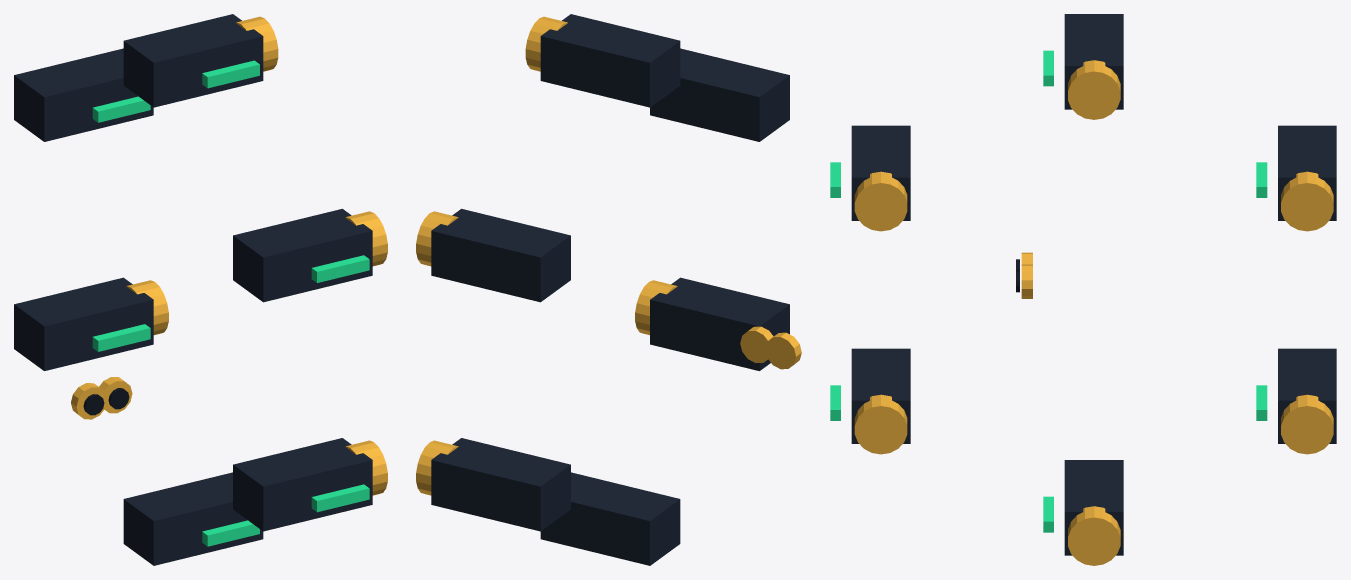
File: 57_L85_SixActuatorDockingLatchArray.fbx
3 views of the same model, side by side, from view 1: azimuth 30°, elevation 25°; view 2: azimuth 150°, elevation 25°; view 3: azimuth 270°, elevation 25° (orthographic). The views are drawn at different scales.
Visible parts, largest first — view 1: L85_SixActuatorDockingLatchArray_Part_0000, L85_SixActuatorDockingLatchArray_Part_0002, L85_SixActuatorDockingLatchArray_Part_0001, L85_SixActuatorDockingLatchArray_Part_0003, L85_SixActuatorDockingLatchArray_Part_0005; view 2: L85_SixActuatorDockingLatchArray_Part_0000, L85_SixActuatorDockingLatchArray_Part_0001, L85_SixActuatorDockingLatchArray_Part_0003, L85_SixActuatorDockingLatchArray_Part_0005; view 3: L85_SixActuatorDockingLatchArray_Part_0000, L85_SixActuatorDockingLatchArray_Part_0001, L85_SixActuatorDockingLatchArray_Part_0002.
Boxes of the visible parts, <box> form: L85_SixActuatorDockingLatchArray_Part_0000: <box>14,14,372,565</box>; L85_SixActuatorDockingLatchArray_Part_0002: <box>92,60,369,546</box>; L85_SixActuatorDockingLatchArray_Part_0001: <box>126,16,387,495</box>; L85_SixActuatorDockingLatchArray_Part_0003: <box>71,383,107,419</box>; L85_SixActuatorDockingLatchArray_Part_0005: <box>99,377,132,413</box>; L85_SixActuatorDockingLatchArray_Part_0000: <box>431,14,789,565</box>; L85_SixActuatorDockingLatchArray_Part_0001: <box>416,16,677,495</box>; L85_SixActuatorDockingLatchArray_Part_0003: <box>768,332,801,369</box>; L85_SixActuatorDockingLatchArray_Part_0005: <box>740,326,773,362</box>; L85_SixActuatorDockingLatchArray_Part_0000: <box>851,14,1336,555</box>; L85_SixActuatorDockingLatchArray_Part_0001: <box>854,60,1333,565</box>; L85_SixActuatorDockingLatchArray_Part_0002: <box>830,50,1267,532</box>.
Size of the model in its own units: 94.75 by 204 by 189.
